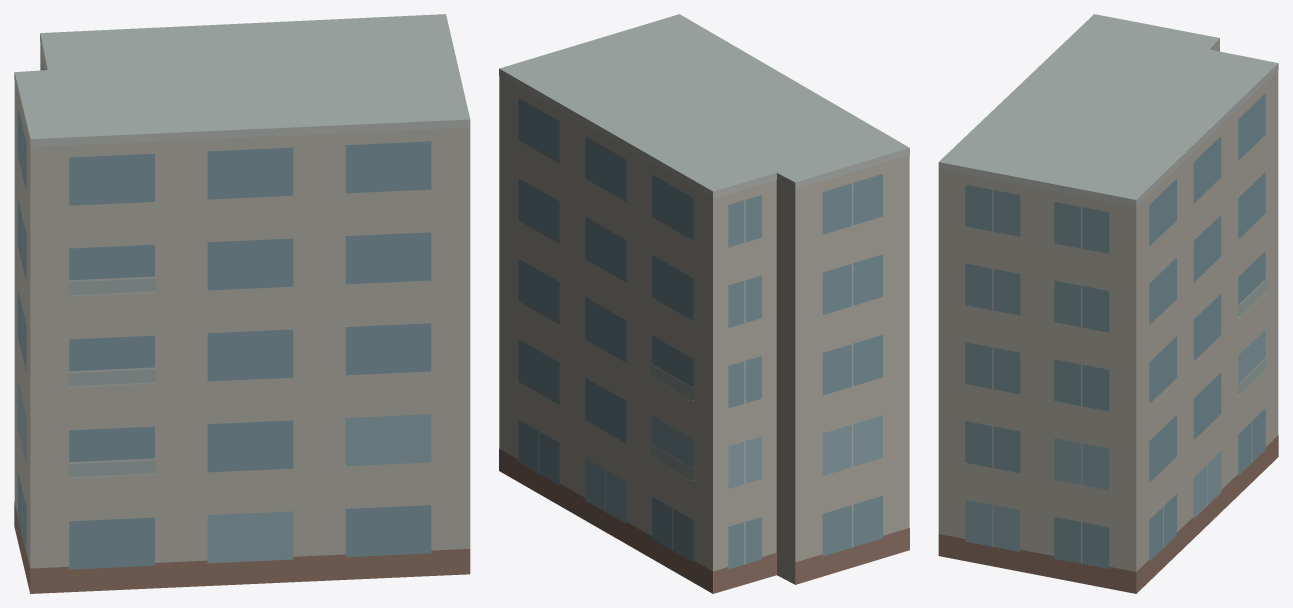
The model's file is survey-upis-32670118.glb.
The picture shows the model from 3 angles, left to right: view 1: azimuth 30°, elevation 25°; view 2: azimuth 150°, elevation 25°; view 3: azimuth 270°, elevation 25°; orthographic projection. The views are drawn at different scales.
Visible parts, largest first — view 1: survey-upis-32670118.tmp; view 2: survey-upis-32670118.tmp; view 3: survey-upis-32670118.tmp.
Boxes of the visible parts, x1,y1,x2,y2 form: survey-upis-32670118.tmp: (14,14,470,593); survey-upis-32670118.tmp: (499,14,909,593); survey-upis-32670118.tmp: (938,14,1278,593).
Bounding box in the file's own units: 13.98 × 13.8 × 10.8.
